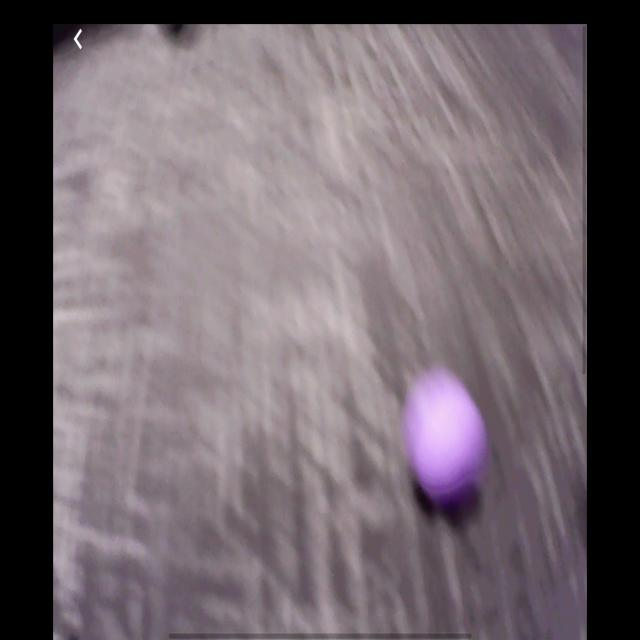ball: (401, 365, 489, 508)
